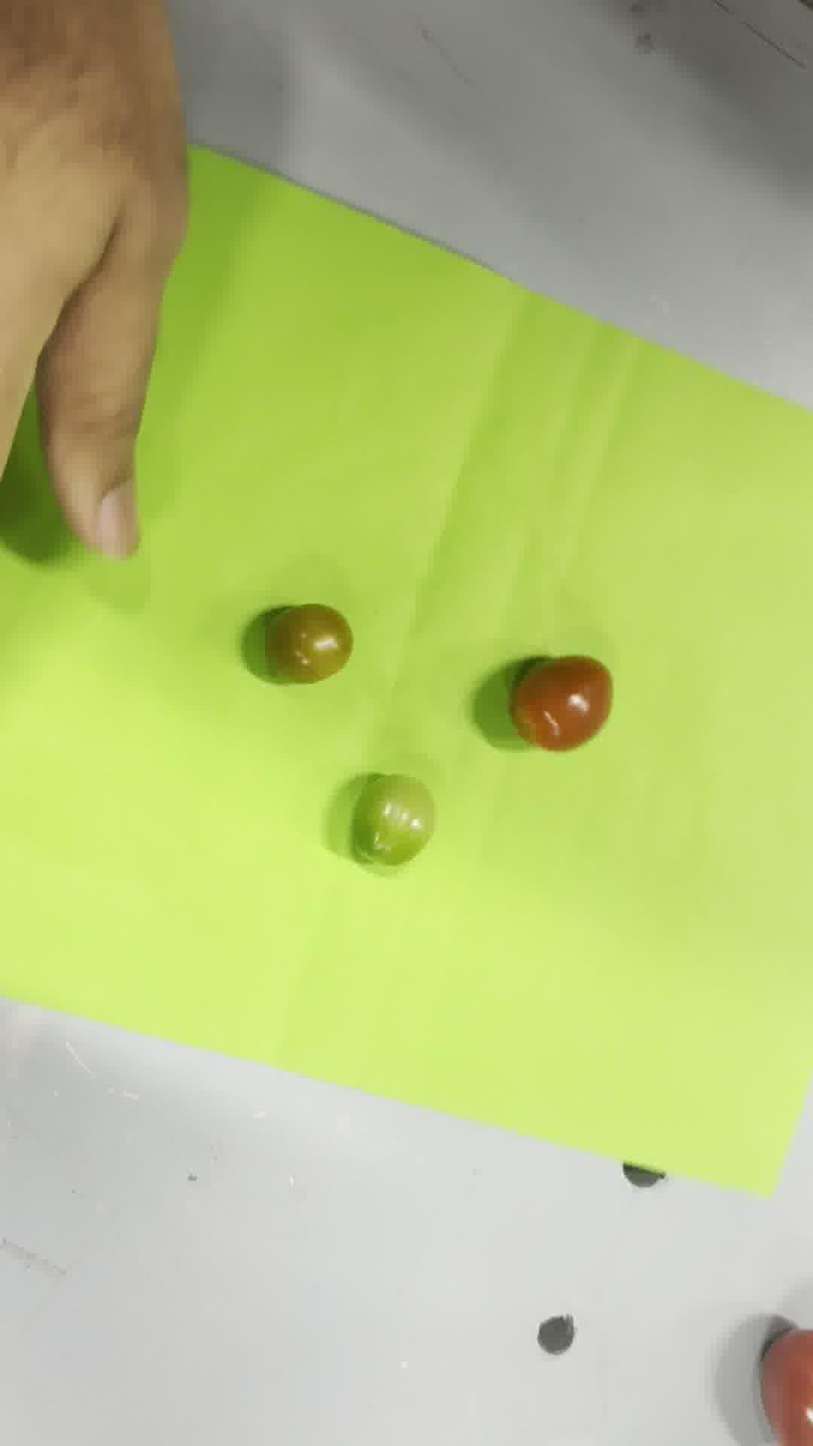green_cherry_tomato: (355, 774, 434, 866)
red_cherry_tomato: (510, 655, 613, 751)
yellow_cherry_tomato: (266, 603, 352, 683)
